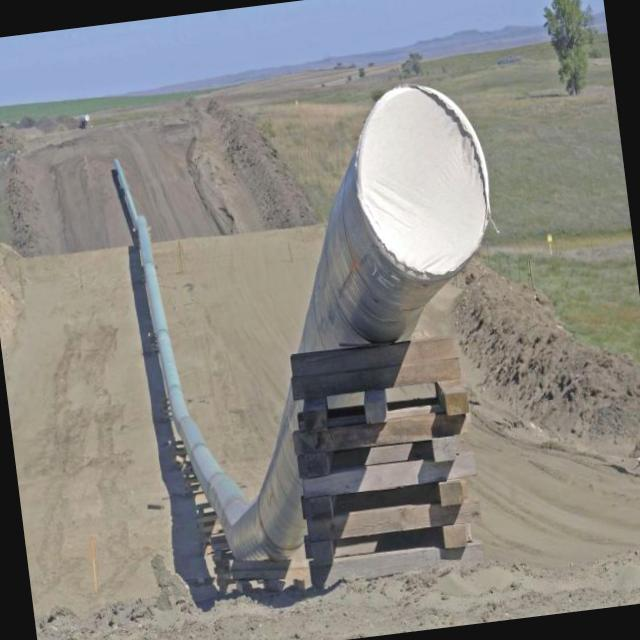gas: (117, 177, 302, 571), (299, 87, 489, 351)
